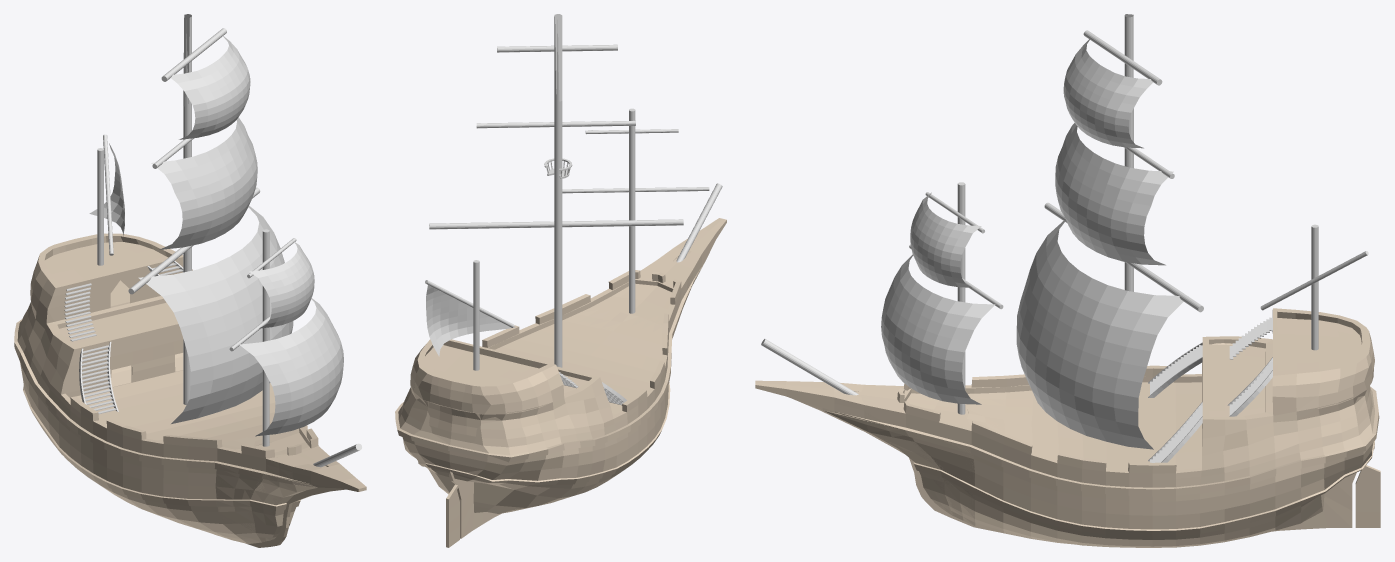
File: ship.glb
3 renders of one model, left to right at view 1: azimuth 30°, elevation 25°; view 2: azimuth 150°, elevation 25°; view 3: azimuth 270°, elevation 25°, orthographic. The views are drawn at different scales.
Visible parts, largest first — view 1: Ship, parus, parus2, parus3, parus5, floor2, parus4, Ship.003, floor4, Mast_center, stairs1, stairs2 (+8 smaller); view 2: Ship, Ship.003, floor2, Mast_center, Grid.006, Cylinder, floor4, Mast_front, Cylinder.001, Mast_back, Cylinder.005, Cylinder.002 (+3 smaller); view 3: Ship, parus, parus2, parus3, parus5, Ship.003, floor2, parus4, stairs1, floor1, stairs2, Mast_center (+5 smaller).
Part boxes in pixels (<box>): Ship: <box>14,233,366,547</box>; parus: <box>138,206,293,423</box>; parus2: <box>239,298,343,436</box>; parus3: <box>151,117,257,249</box>; parus5: <box>171,36,250,139</box>; floor2: <box>215,446,355,504</box>; parus4: <box>249,239,314,328</box>; Ship.003: <box>70,396,318,458</box>; floor4: <box>31,302,183,397</box>; Mast_center: <box>183,14,191,404</box>; stairs1: <box>81,345,116,413</box>; stairs2: <box>64,263,183,341</box>; Ship: <box>395,218,726,547</box>; Ship.003: <box>482,270,681,412</box>; floor2: <box>397,229,716,479</box>; Mast_center: <box>554,14,562,367</box>; Grid.006: <box>426,285,515,356</box>; Cylinder: <box>429,219,683,229</box>; floor4: <box>410,384,547,436</box>; Mast_front: <box>629,108,635,313</box>; Cylinder.001: <box>476,120,635,128</box>; Mast_back: <box>473,260,479,370</box>; Cylinder.005: <box>497,44,617,52</box>; Cylinder.002: <box>562,187,709,193</box>; Ship: <box>755,308,1380,547</box>; parus: <box>1016,220,1188,449</box>; parus2: <box>881,254,995,404</box>; parus3: <box>1055,123,1173,265</box>; parus5: <box>1063,39,1153,148</box>; Ship.003: <box>897,365,1176,473</box>; floor2: <box>786,381,1379,525</box>; parus4: <box>910,192,981,287</box>; stairs1: <box>1150,344,1202,462</box>; floor1: <box>914,441,1374,526</box>; stairs2: <box>1229,317,1272,415</box>; Mast_center: <box>1124,14,1133,291</box>.
Bounding box in the file's own units: 27.34 × 62.28 × 67.04.
